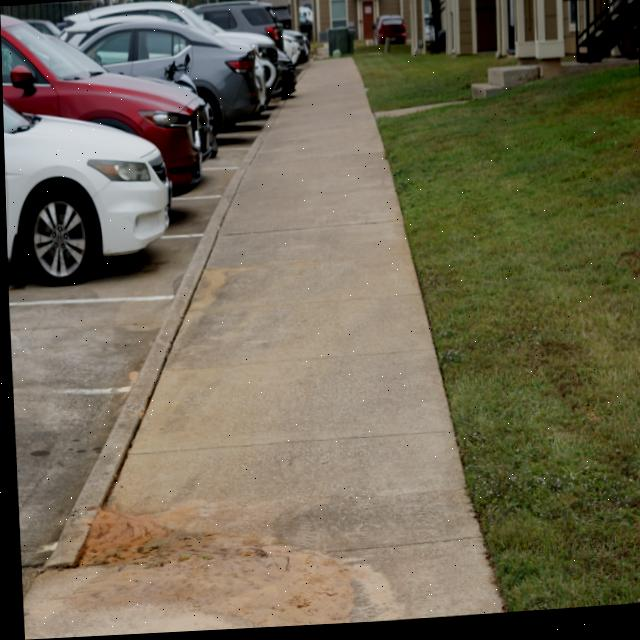Automobile: (0, 3, 309, 286), (373, 19, 405, 46)
Road: (7, 299, 170, 571), (165, 113, 269, 236), (6, 239, 199, 303)
Sidewalk: (19, 62, 499, 640)
